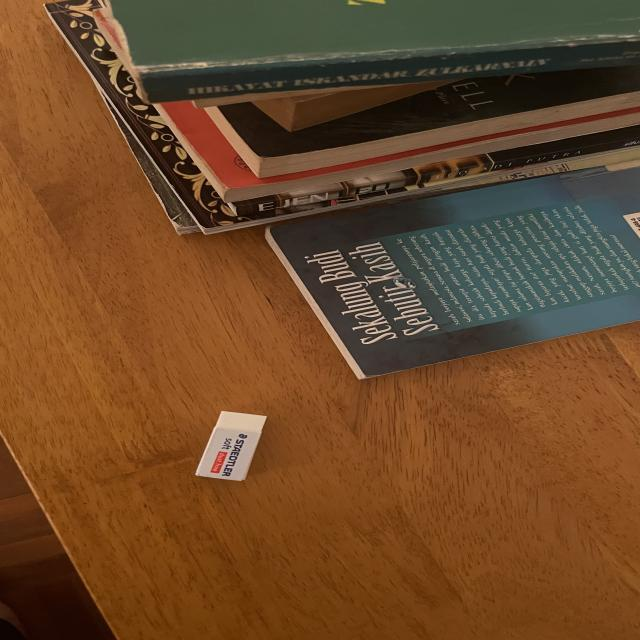eraser: (196, 411, 266, 481)
